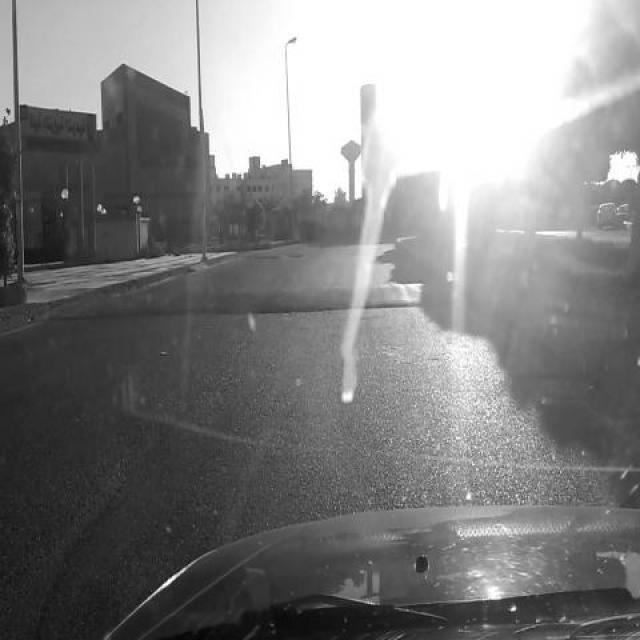Unmarked Bump: (47, 281, 450, 320)
